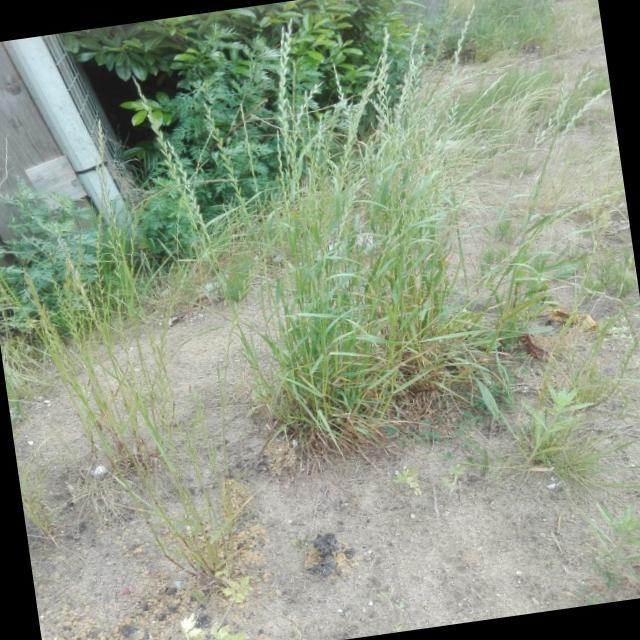Lolium: (126, 0, 640, 461), (92, 118, 140, 315), (260, 20, 312, 140), (205, 99, 252, 222), (126, 70, 176, 182), (85, 211, 122, 339), (20, 265, 66, 359), (440, 5, 490, 88), (362, 27, 401, 131), (170, 138, 208, 232), (50, 268, 86, 350), (554, 90, 612, 136)
